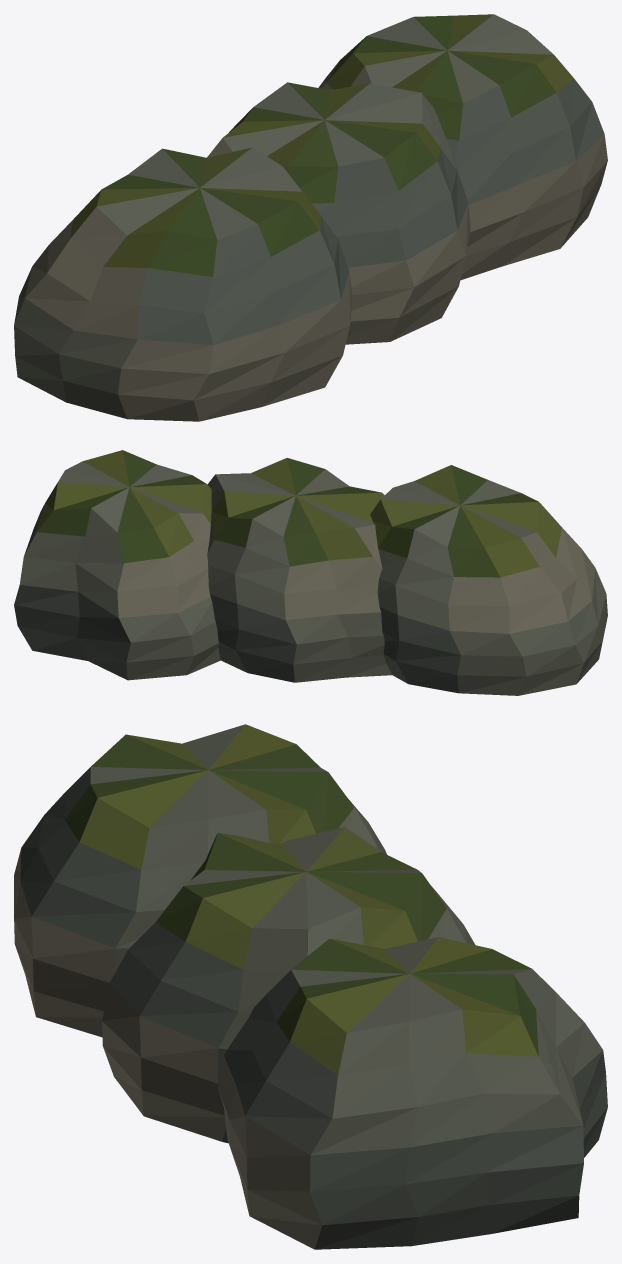
Rendered from Rock_Scree_01.fbx.
3 views of the same model, one above another, from view 1: azimuth 30°, elevation 25°; view 2: azimuth 150°, elevation 25°; view 3: azimuth 270°, elevation 25° (orthographic). The views are drawn at different scales.
Parts seen in each view (by area): view 1: Rock_Scree_01_LOD0.001; view 2: Rock_Scree_01_LOD0.001; view 3: Rock_Scree_01_LOD0.001.
Part boxes in pixels (x1,y1,x2,y2): Rock_Scree_01_LOD0.001: [14, 14, 607, 421]; Rock_Scree_01_LOD0.001: [14, 450, 607, 695]; Rock_Scree_01_LOD0.001: [14, 724, 607, 1249].
Size of what is drawn, in the model's own units: 2.09 by 0.5518 by 1.36.
